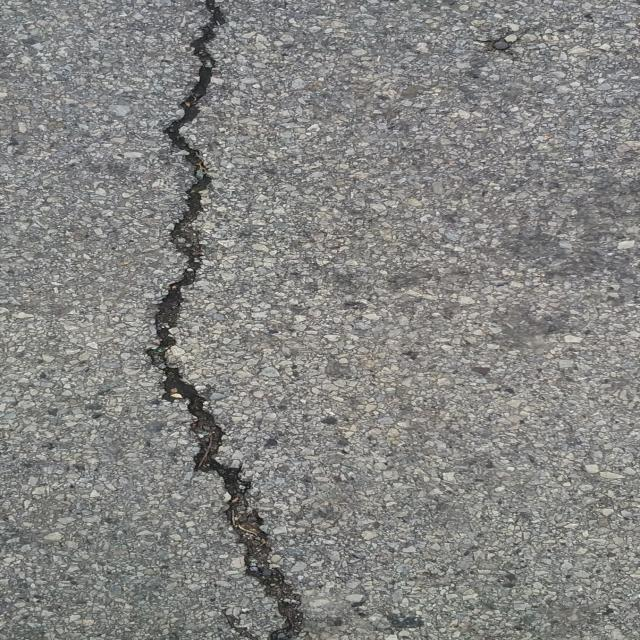Crack: (145, 0, 305, 640)
